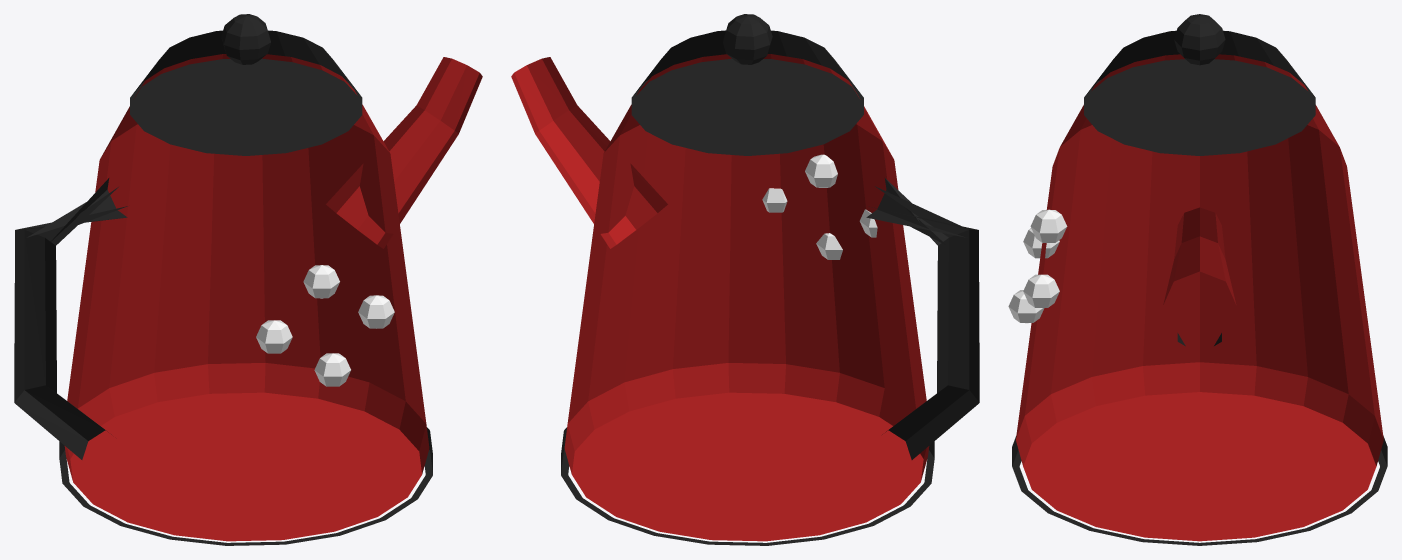
Rendered from kaffekanna.glb.
The picture shows the model from 3 angles, left to right: view 1: azimuth 30°, elevation 25°; view 2: azimuth 150°, elevation 25°; view 3: azimuth 270°, elevation 25°; orthographic projection.
Parts seen in each view (by area): view 1: kaffekanna; view 2: kaffekanna; view 3: kaffekanna.
Part boxes in pixels (left/top/right/bottom): kaffekanna: left=14, top=14, right=482, bottom=545; kaffekanna: left=511, top=14, right=979, bottom=545; kaffekanna: left=1008, top=14, right=1387, bottom=545.
Size of the model in its own units: 0.721 by 0.675 by 0.515.
